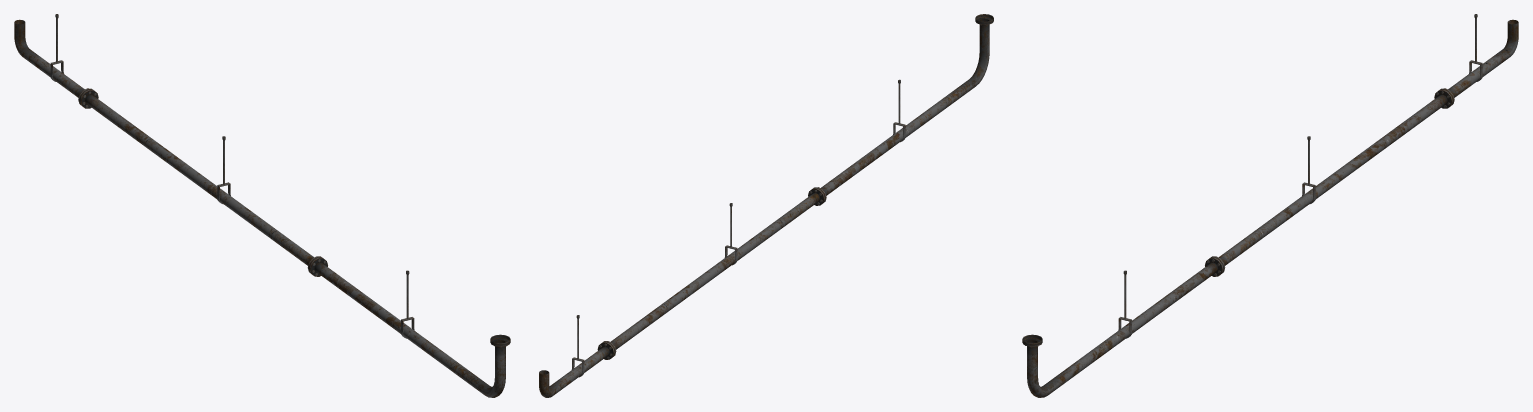
Rendered from Prop_Plumbing_01.fbx.
3 renders of one model, left to right at view 1: azimuth 30°, elevation 25°; view 2: azimuth 150°, elevation 25°; view 3: azimuth 330°, elevation 25°, orthographic. The views are drawn at different scales.
Parts seen in each view (by area): view 1: Prop_Plumbing_01; view 2: Prop_Plumbing_01; view 3: Prop_Plumbing_01.
Part boxes in pixels (bbox=[...]): Prop_Plumbing_01: bbox=[14, 14, 510, 397]; Prop_Plumbing_01: bbox=[539, 14, 993, 397]; Prop_Plumbing_01: bbox=[1022, 14, 1518, 397].
Bounding box in the file's own units: 6.68 × 25.47 × 320.
